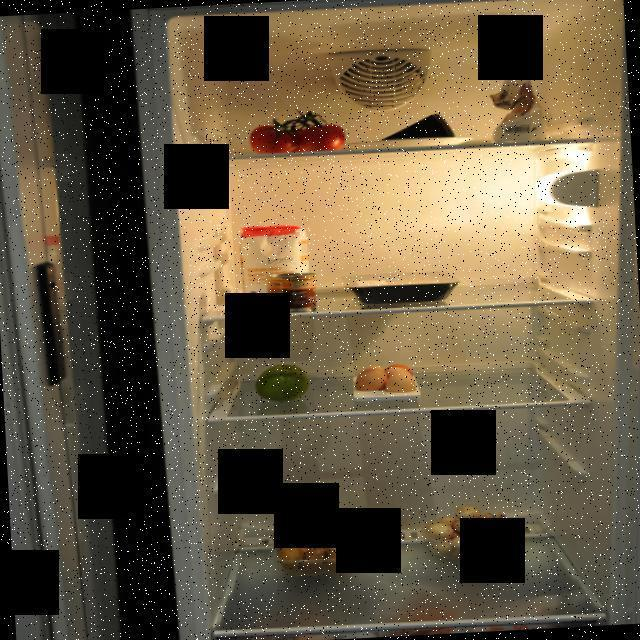apple: (251, 360, 313, 406)
cheese: (376, 114, 462, 144)
corn: (262, 270, 318, 312)
eggs: (351, 360, 424, 398)
flour: (488, 74, 549, 146)
mushrooms: (422, 502, 511, 560)
potato: (268, 522, 356, 574)
sugar: (241, 224, 309, 300)
tomato: (251, 115, 344, 158)
